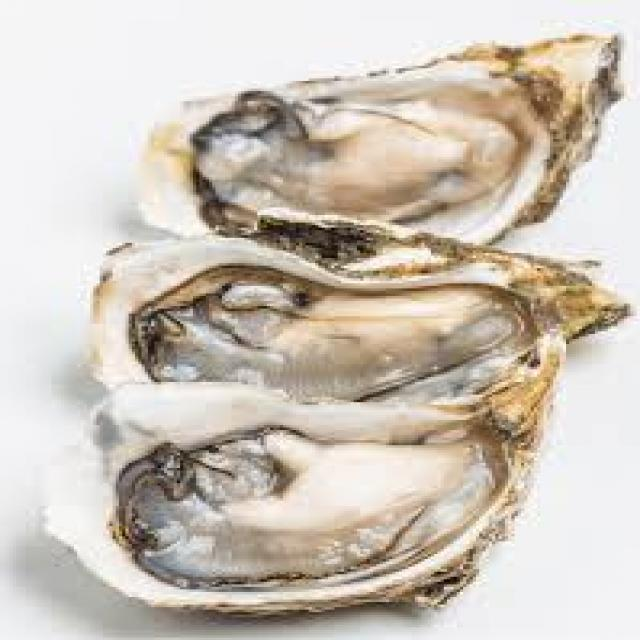Oyster-Open: (48, 331, 564, 612), (140, 34, 621, 268), (92, 239, 628, 401)
